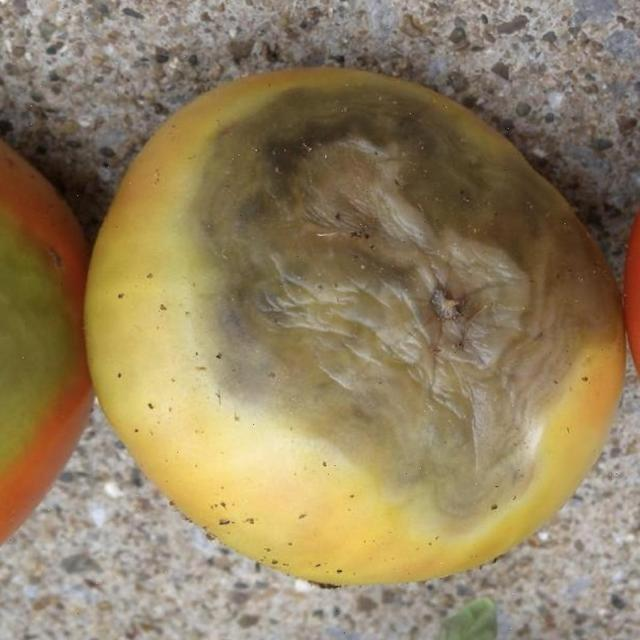Sunscald Fruit: (24, 172, 292, 300)
